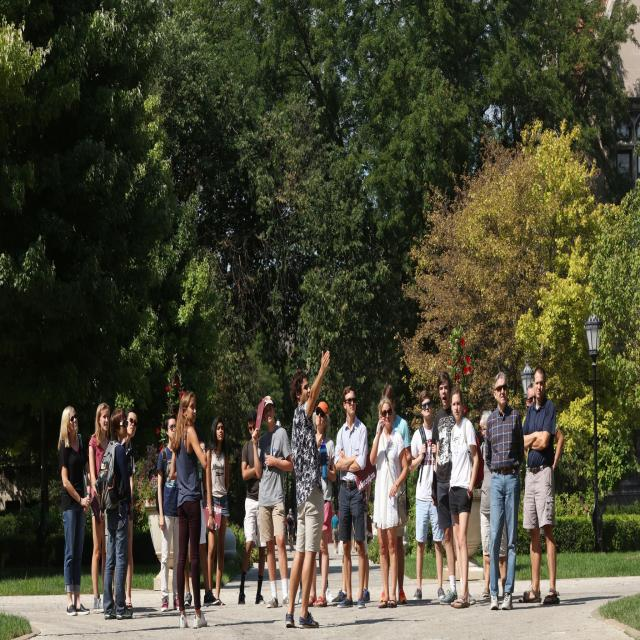body: (280, 348, 332, 630), (430, 369, 477, 608), (517, 363, 561, 607), (483, 369, 526, 613), (250, 394, 297, 610), (168, 388, 208, 630), (368, 393, 411, 610), (522, 382, 564, 596), (374, 380, 413, 608), (332, 384, 371, 610), (446, 384, 485, 609), (318, 444, 371, 609), (94, 407, 134, 621), (175, 424, 220, 608), (410, 389, 446, 601), (57, 404, 92, 618), (306, 400, 338, 609), (478, 409, 508, 599), (238, 408, 266, 608), (204, 414, 232, 608), (112, 406, 138, 610), (154, 412, 180, 614), (87, 402, 111, 613), (285, 507, 295, 548), (331, 508, 339, 554)
